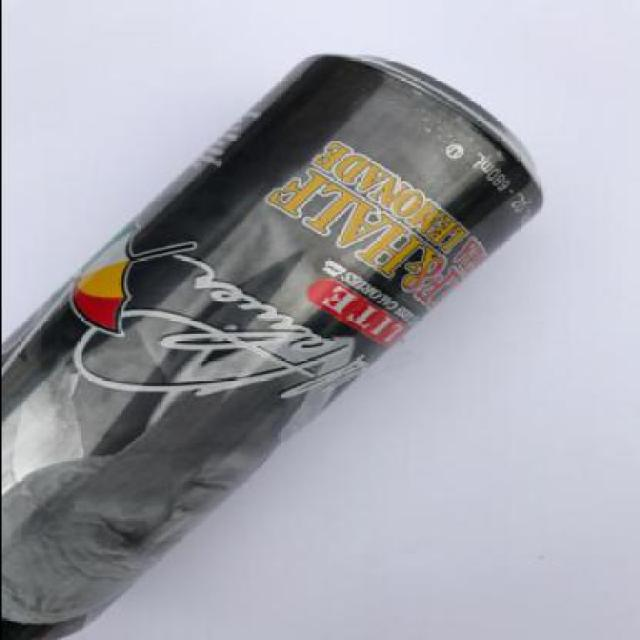METAL: (2, 51, 543, 638)
